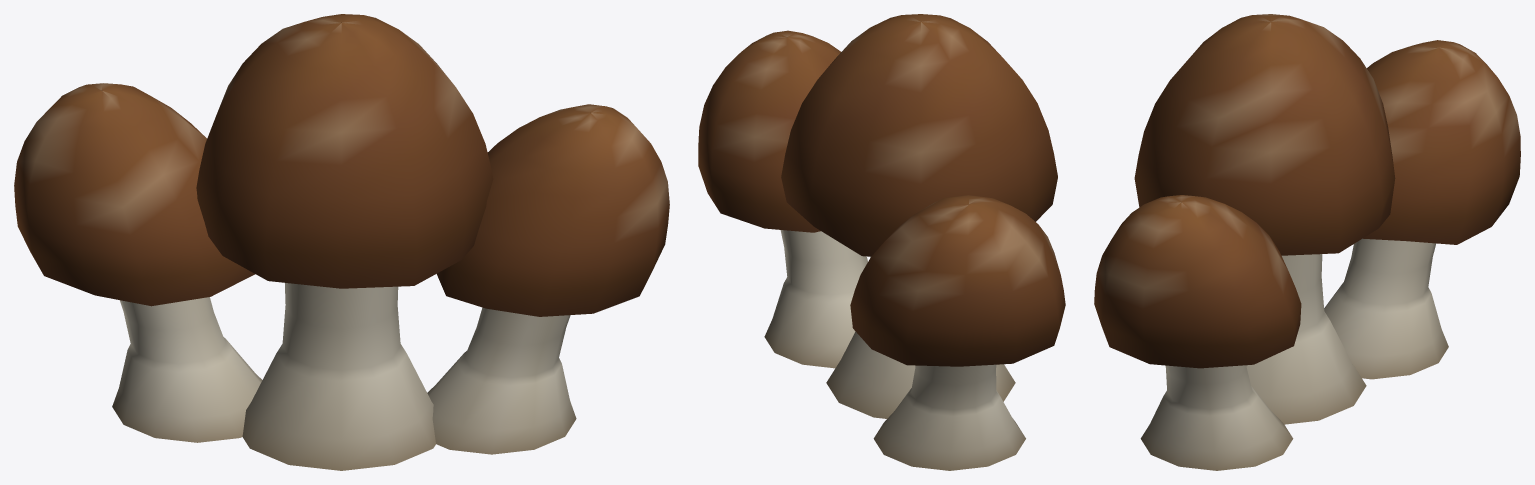
Rendered from mushroom-bolete-cluster.glb.
The picture shows the model from 3 angles, left to right: view 1: azimuth 30°, elevation 25°; view 2: azimuth 150°, elevation 25°; view 3: azimuth 270°, elevation 25°; orthographic projection. The views are drawn at different scales.
Parts seen in each view (by area): view 1: mushroom-bolete-cluster; view 2: mushroom-bolete-cluster; view 3: mushroom-bolete-cluster.
Part boxes in pixels (<box>): mushroom-bolete-cluster: <box>14,14,669,470</box>; mushroom-bolete-cluster: <box>698,14,1065,470</box>; mushroom-bolete-cluster: <box>1094,14,1520,470</box>.
Bounding box in the file's own units: 0.3225 × 0.25 × 0.2658.
